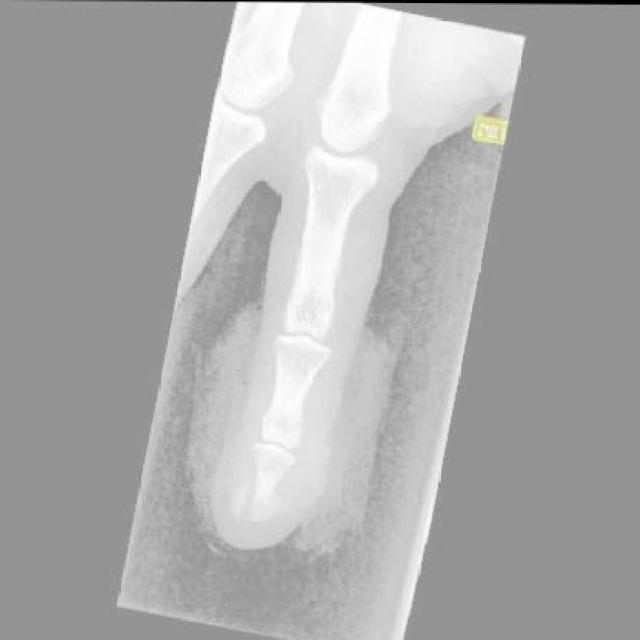Fracture: (222, 477, 284, 535)
